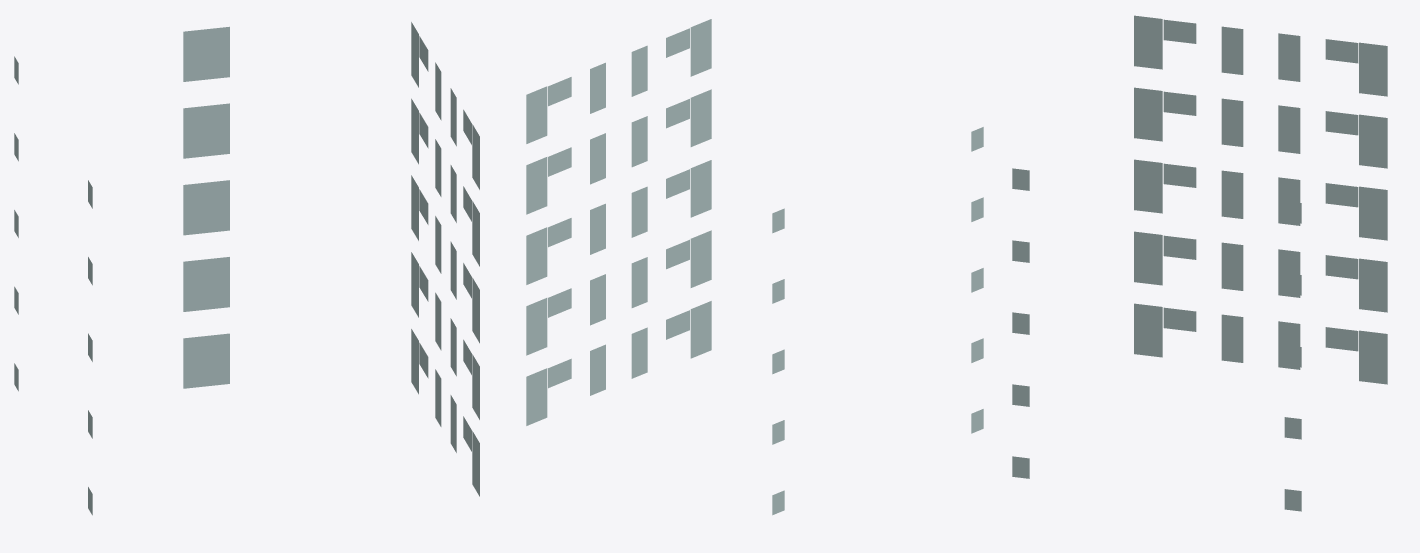
Rendered from Windows.glb.
The picture shows the model from 3 angles, left to right: view 1: azimuth 30°, elevation 25°; view 2: azimuth 150°, elevation 25°; view 3: azimuth 270°, elevation 25°; orthographic projection. The views are drawn at different scales.
Bounding box in the file's own units: 15.1 × 12.6 × 13.27.
